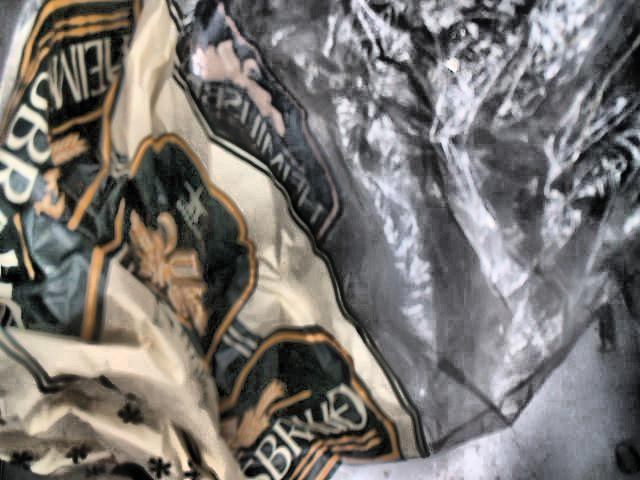Plastic: (1, 1, 635, 480)
